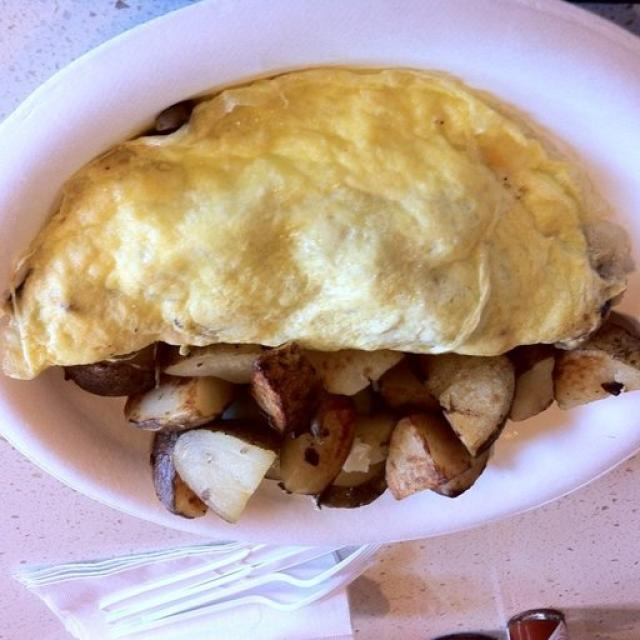telur_ayam_dadar: (1, 68, 634, 384)
